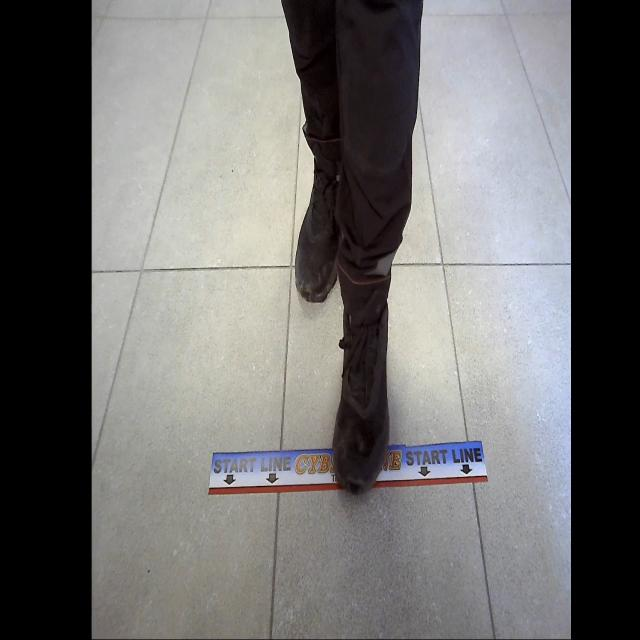foot: (332, 293, 390, 495), (292, 154, 348, 304)
